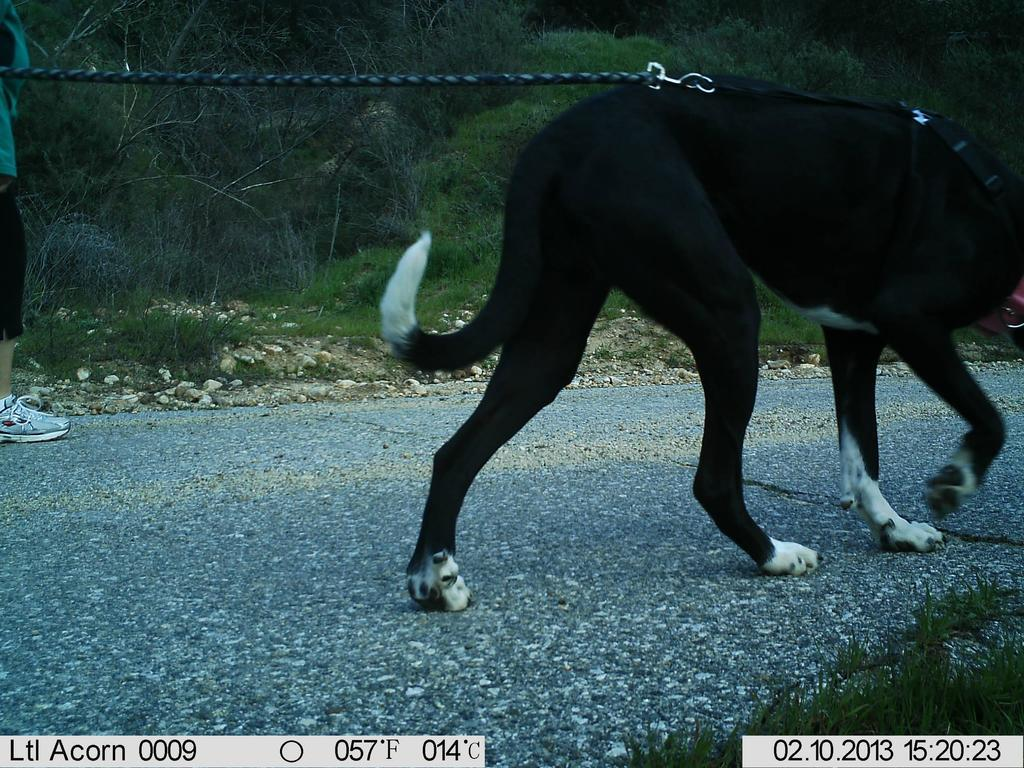dog: (369, 66, 1024, 621)
